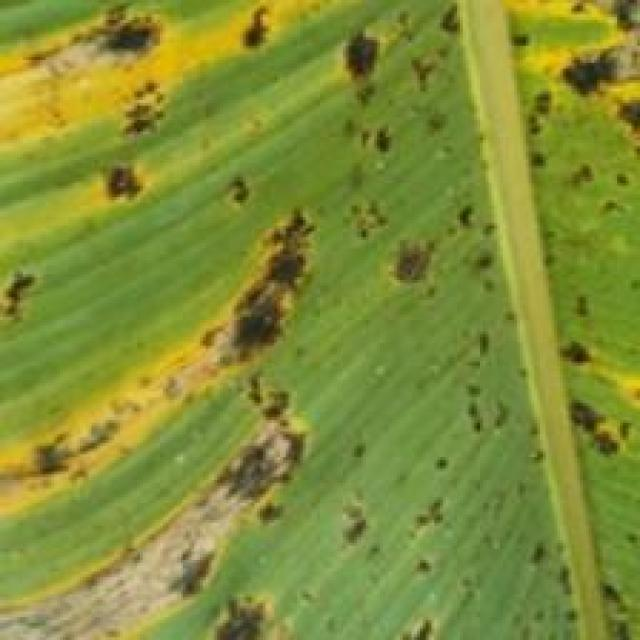Downey_mildrew: (1, 0, 640, 640), (0, 197, 412, 626), (11, 6, 486, 206), (503, 0, 638, 640)
